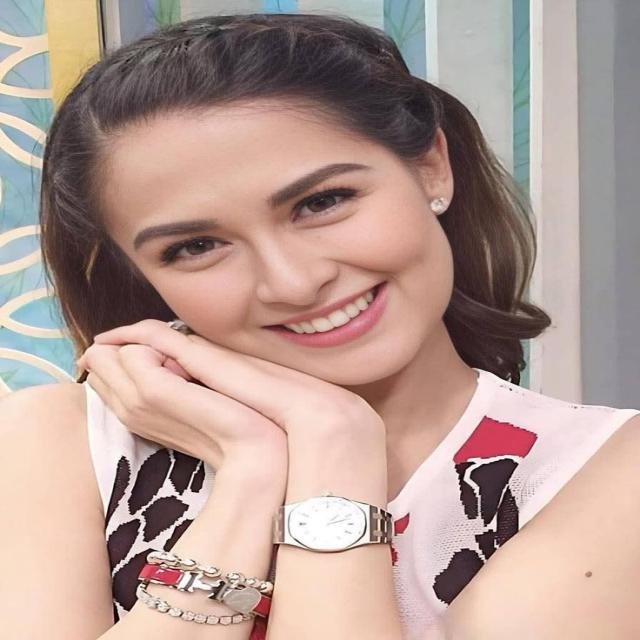sem_oculos: (59, 197, 486, 255)
